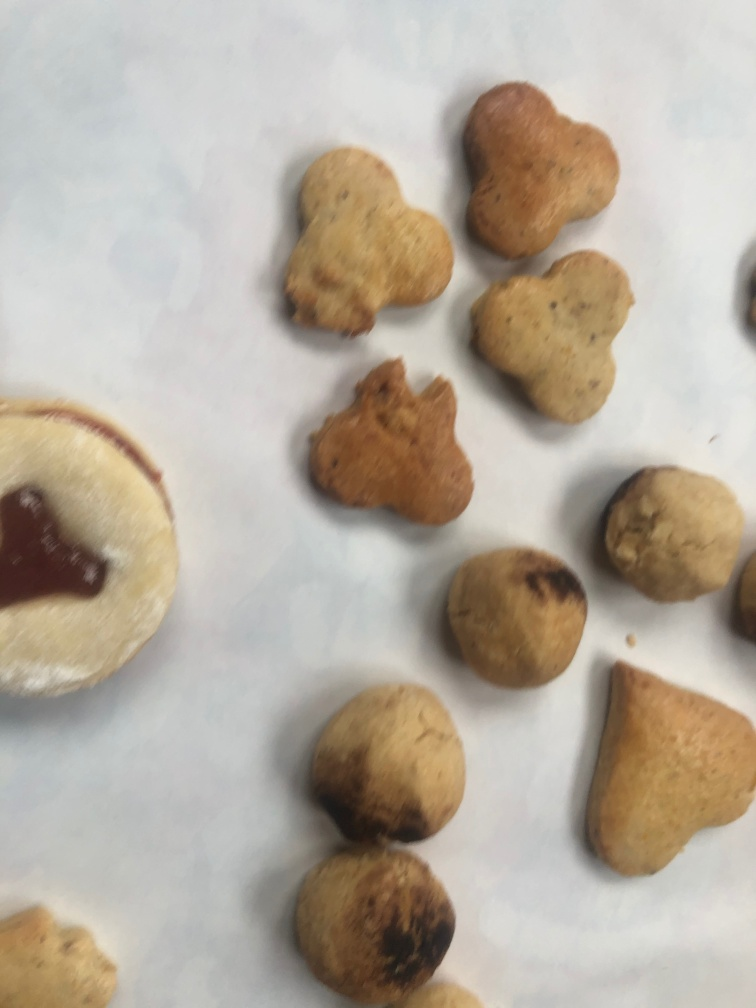christmas shortbread with jam: (3, 393, 183, 711)
flake: (272, 137, 454, 346), (454, 77, 626, 267), (460, 249, 636, 433), (298, 354, 476, 534)
heart: (577, 656, 756, 878)
snowball: (297, 682, 469, 849), (282, 840, 455, 992), (595, 460, 748, 614), (437, 543, 587, 699)
